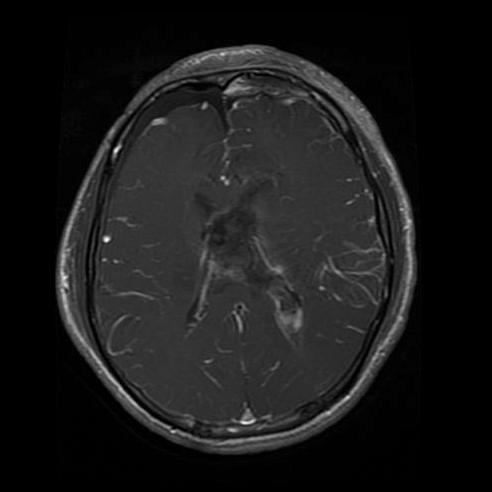Tumour-Glioma: (140, 75, 227, 133)
